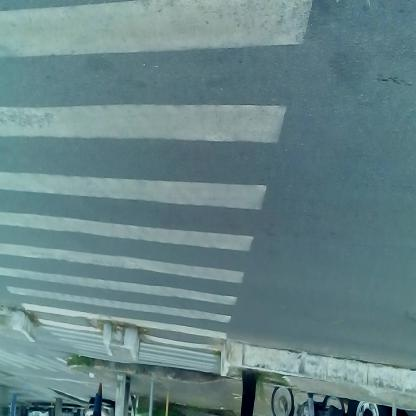crosswalk: (19, 2, 292, 352), (2, 342, 70, 387)
sidewalk: (73, 350, 237, 389)
